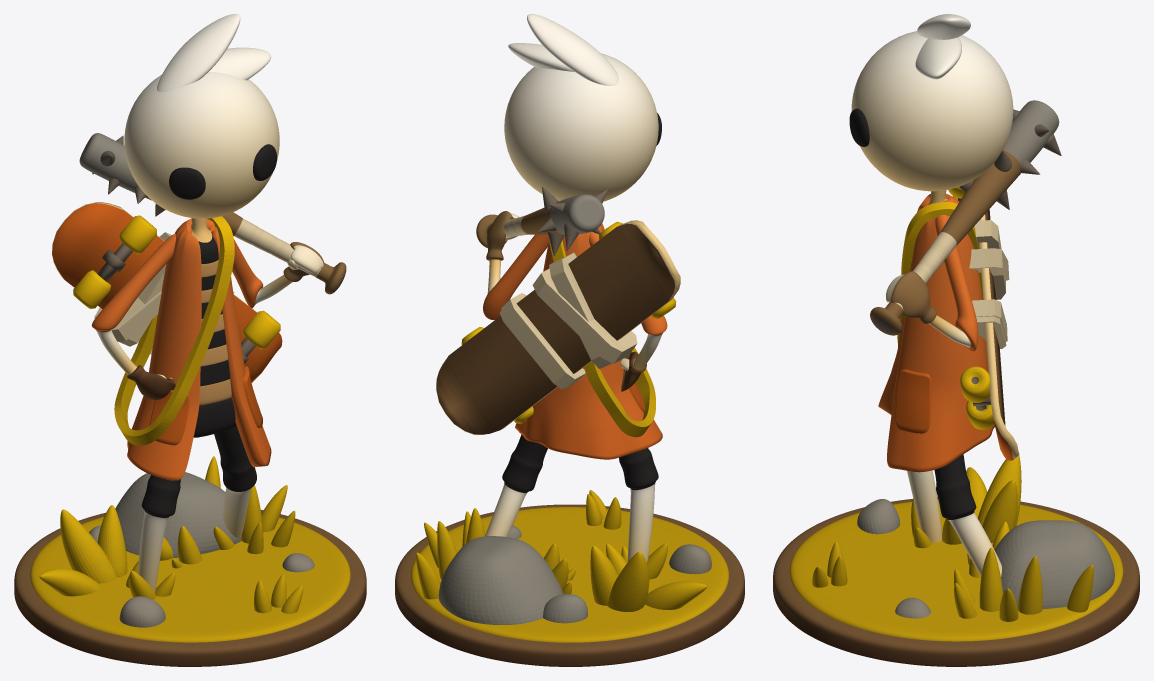
File: neversong_peet.glb
3 views of the same model, side by side, from view 1: azimuth 30°, elevation 25°; view 2: azimuth 150°, elevation 25°; view 3: azimuth 270°, elevation 25° (orthographic). The views are drawn at different scales.
Visible parts, largest first — view 1: Cylinder; view 2: Cylinder; view 3: Cylinder.
Boxes of the visible parts, <box> form: Cylinder: <box>14,14,366,666</box>; Cylinder: <box>395,14,744,666</box>; Cylinder: <box>773,14,1139,666</box>.
Bounding box in the file's own units: 3.56 × 6.37 × 3.56.
1 material, 1 textured.
